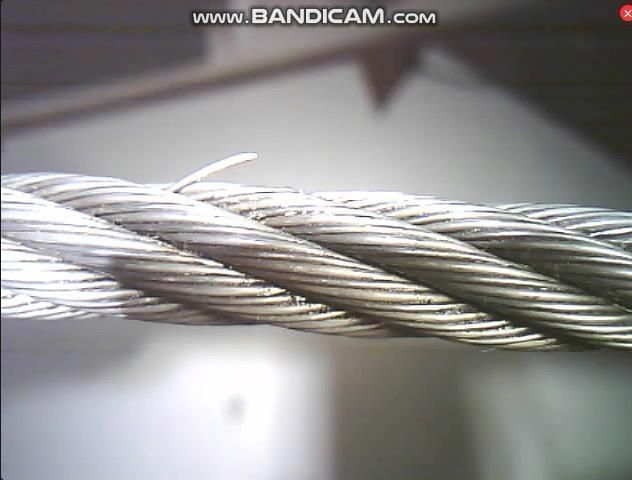break: (157, 134, 263, 209)
